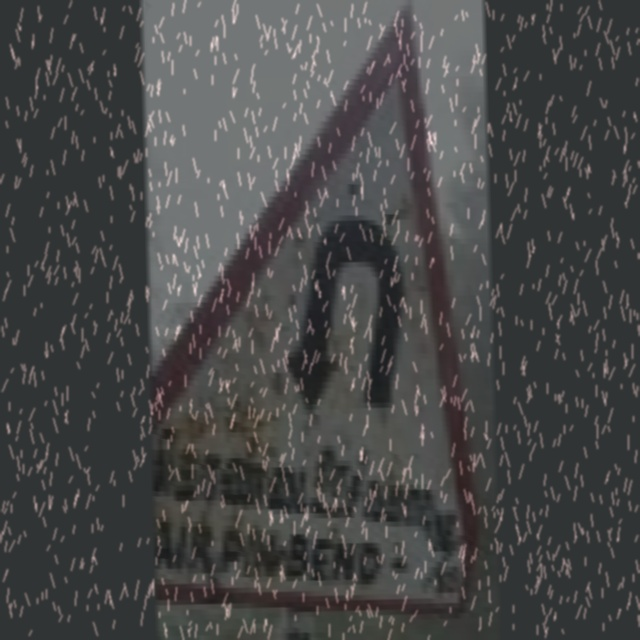Left_Hair_Pin_Bend: (246, 188, 452, 436)
